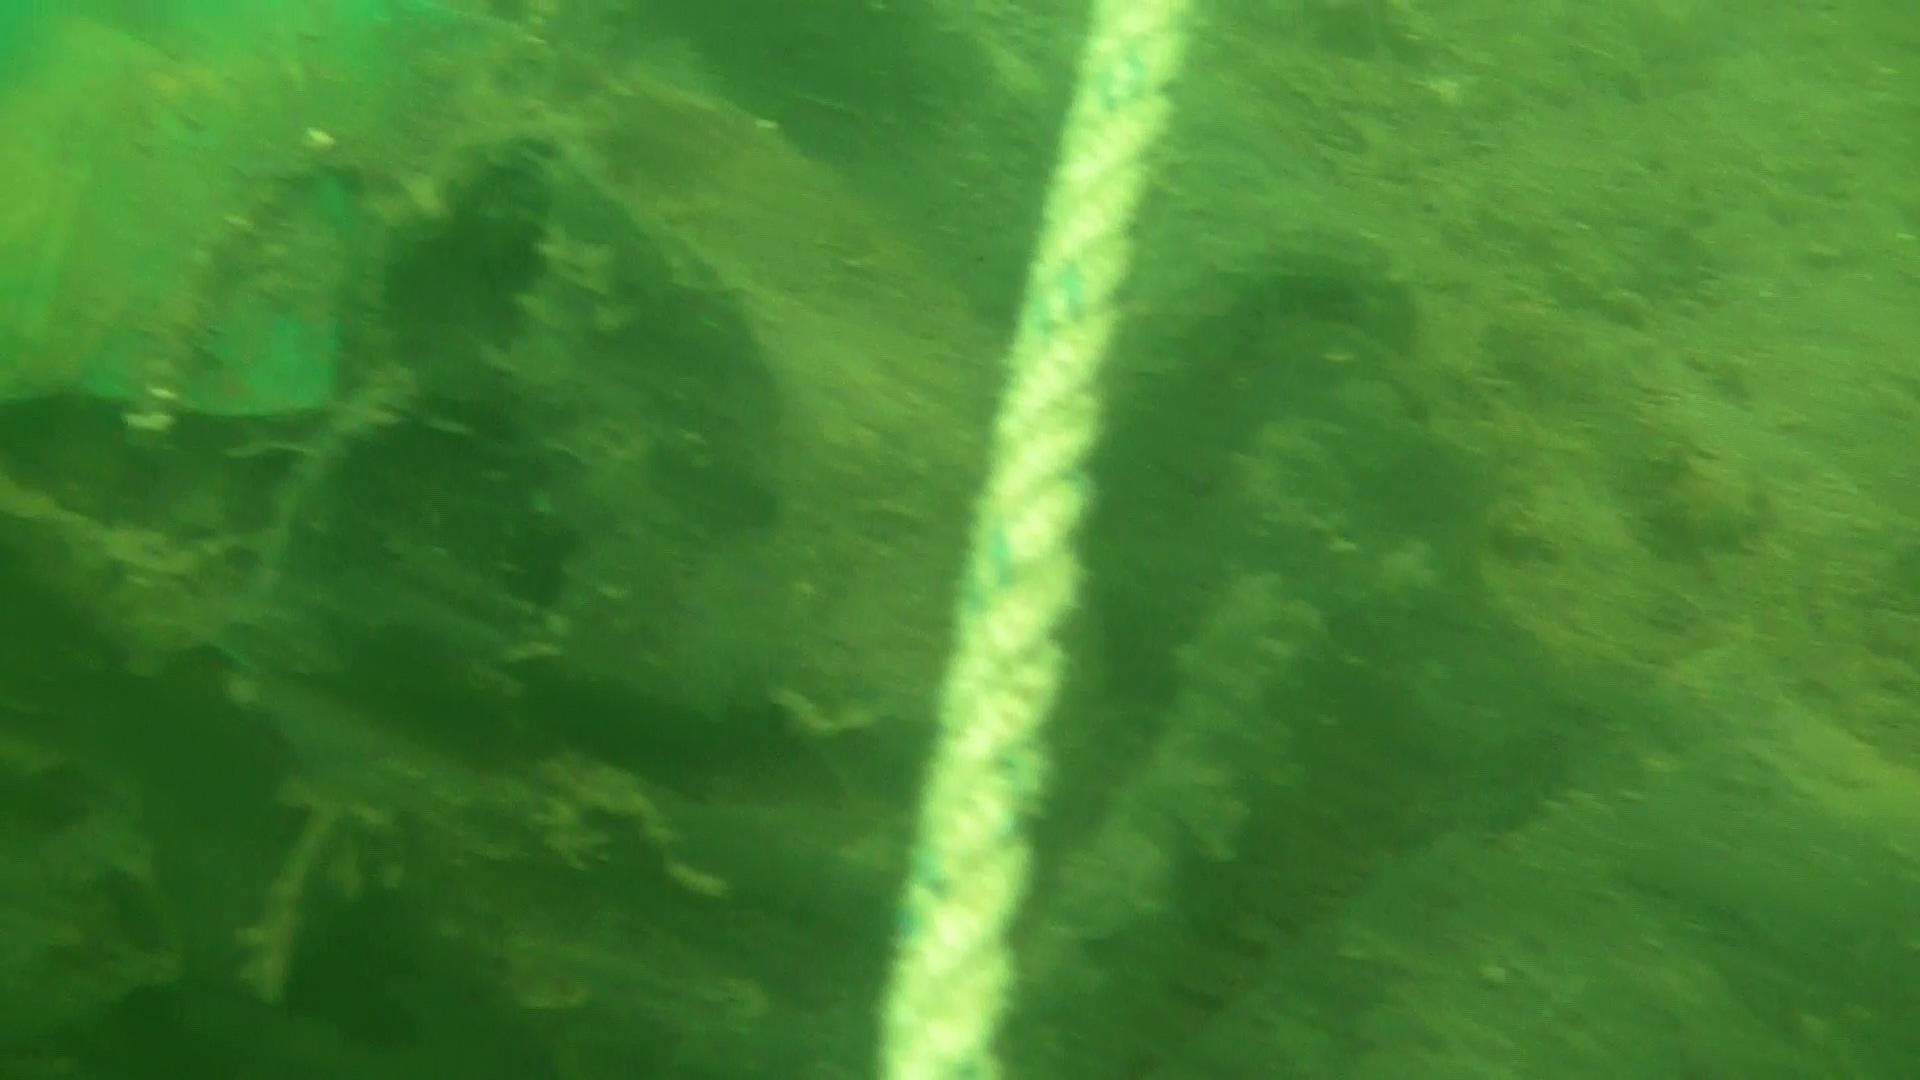rope: (872, 0, 1203, 1080)
